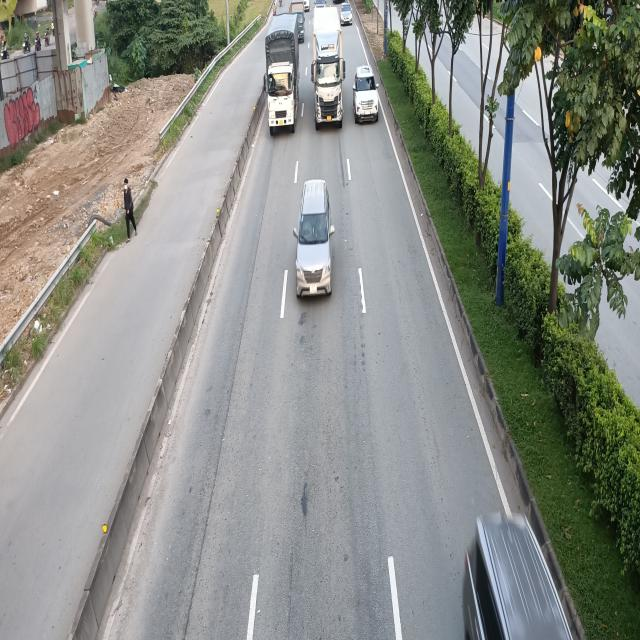car: (293, 178, 333, 296), (351, 66, 379, 125), (340, 2, 353, 25)
container: (312, 7, 344, 132)
truck: (264, 12, 300, 134)
